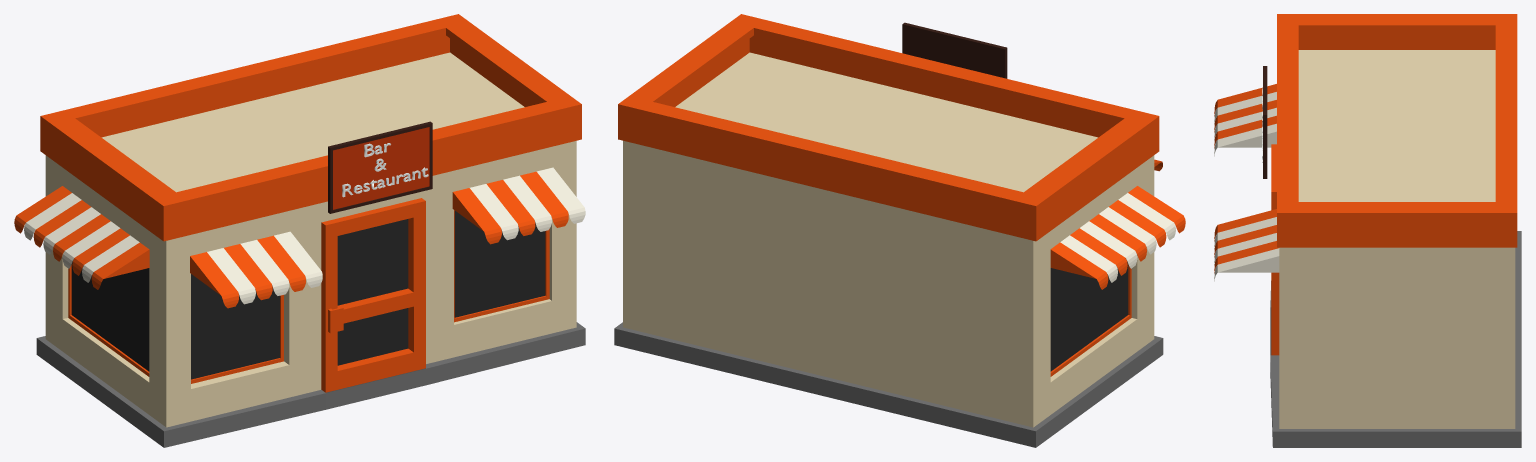
3 renders of one model, left to right at view 1: azimuth 30°, elevation 25°; view 2: azimuth 150°, elevation 25°; view 3: azimuth 270°, elevation 25°, orthographic. The views are drawn at different scales.
Parts seen in each view (by area): view 1: Finestra2.002; view 2: Finestra2.002; view 3: Finestra2.002.
Part boxes in pixels (box(x1,y1,x2,y2)): Finestra2.002: box(14, 14, 585, 447); Finestra2.002: box(614, 14, 1185, 447); Finestra2.002: box(1214, 14, 1521, 447).
Size of the model in its own units: 679 by 369 by 398.
